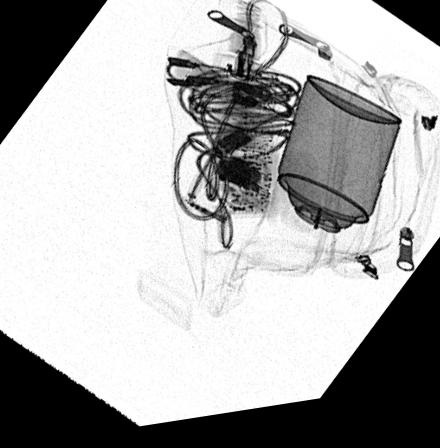Sprayer: (267, 84, 402, 271)
